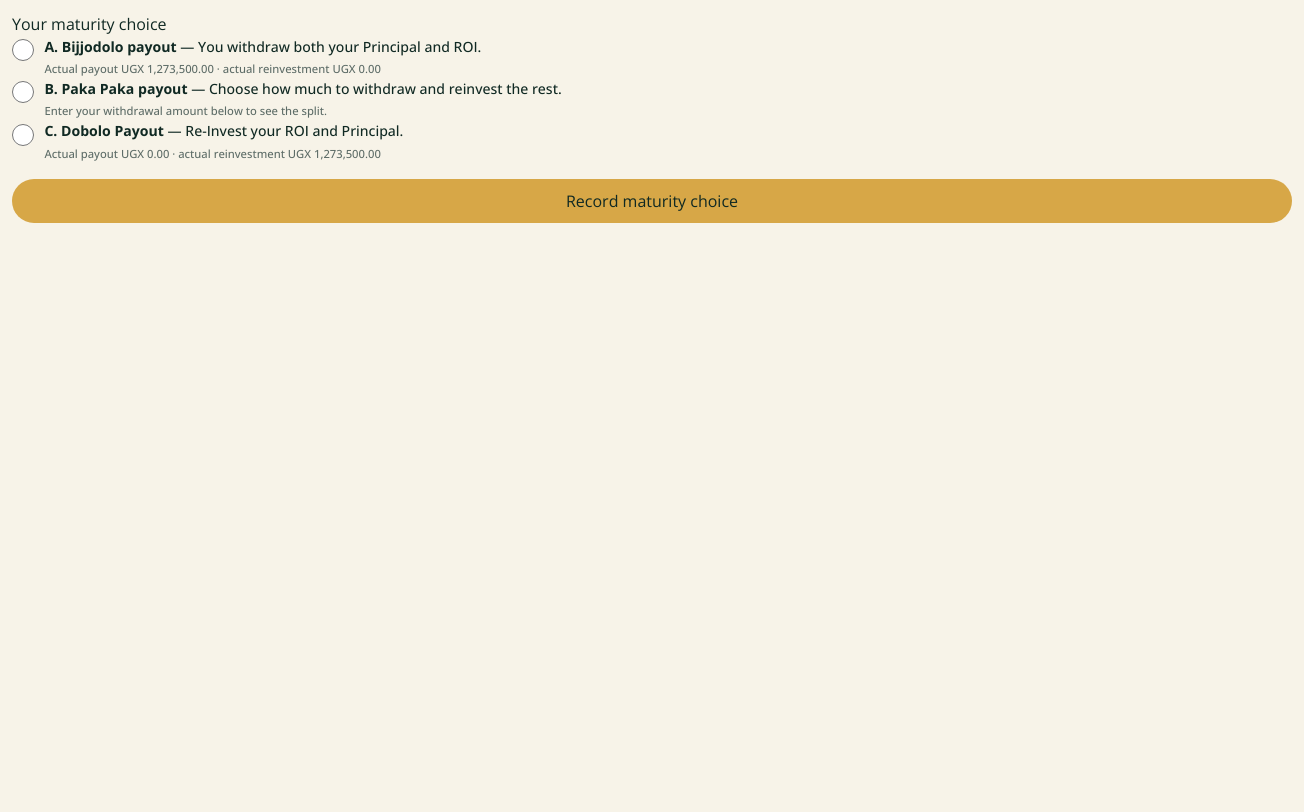
Maturity choices on a recorded actual return › quotes actual amounts without the proportional-adjustment caveat
Expected: the form named "expectedReturnBasis" holds "actual", [12,12,1292,223]
Expected: the form named "expectedActualReturnBps" holds "2735", [12,12,1292,223]
Step 1. Click the radio button labelled "B. Paka Paka" → [23, 92], box [12,81,34,103]
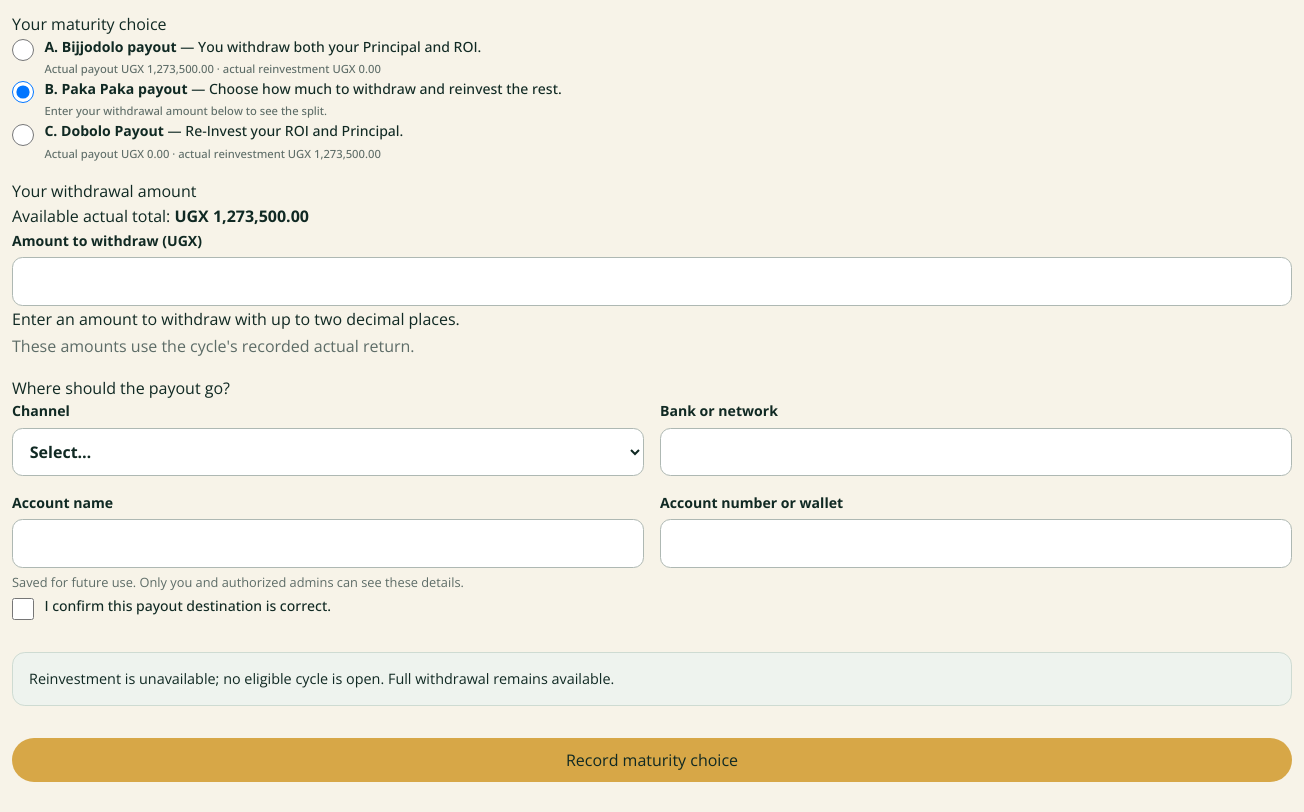
Result: the text "Available actual total: UGX 1,273,500.00" is shown at [12,205,309,227]
Step 2. Type "273500" into the field labelled "Amount to withdraw (UGX)" → [652, 282], box [12,257,1292,306]
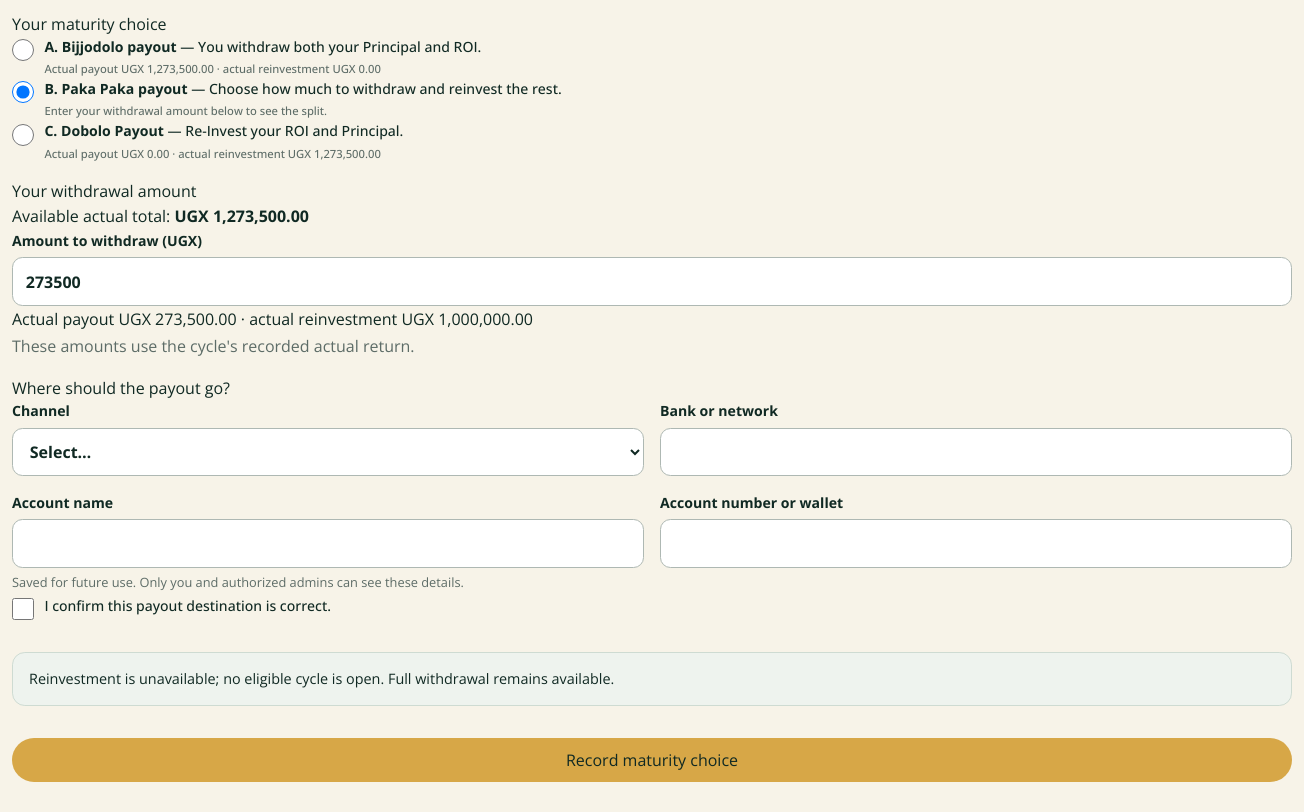
Result: the text "Actual payout UGX 273,500.00" shows "actual reinvestment UGX 1,000,000.00" at [12,308,533,330]
